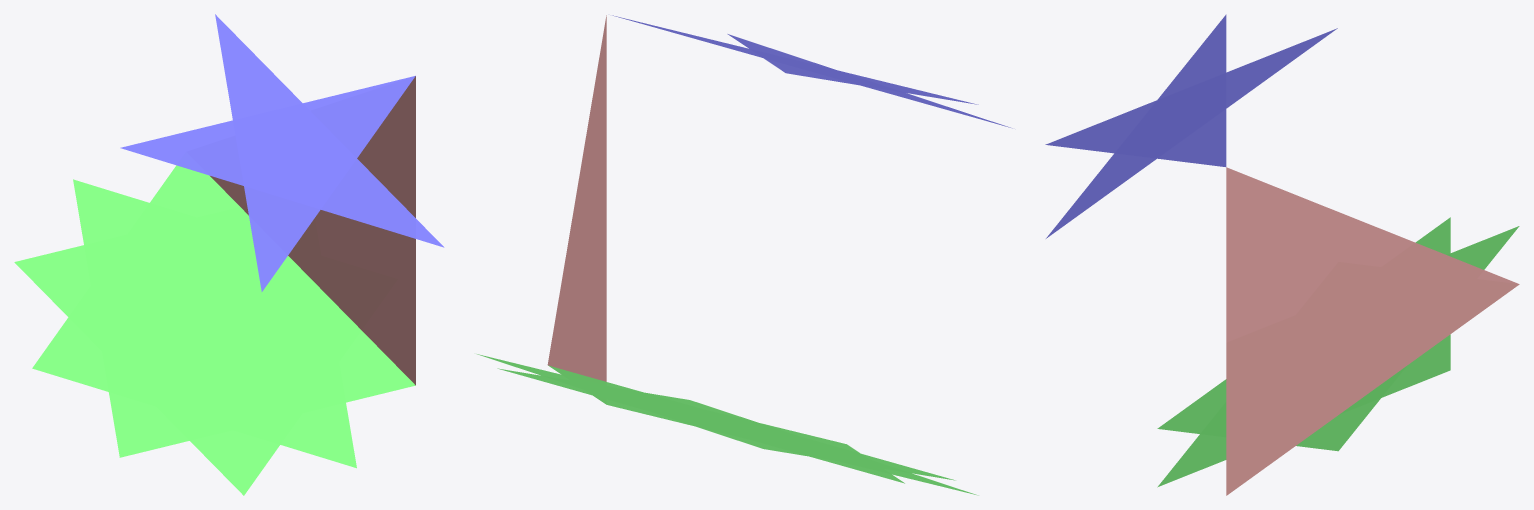
Rendered from GreatDodecicosidodecahedronF.obj.
3 views of the same model, side by side, from view 1: azimuth 30°, elevation 25°; view 2: azimuth 150°, elevation 25°; view 3: azimuth 270°, elevation 25° (orthographic). The views are drawn at different scales.
Bounding box in the file's own units: 1.24 × 1.31 × 1.31.
